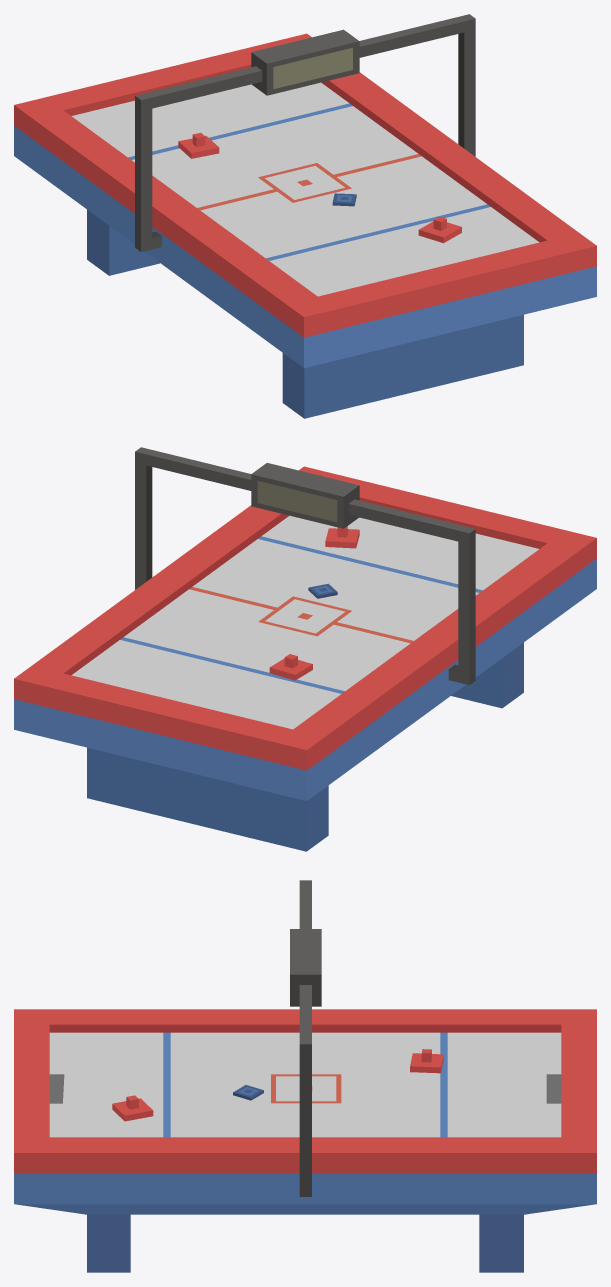
File: AirHockey.glb
3 renders of one model, top to bottom at view 1: azimuth 30°, elevation 25°; view 2: azimuth 150°, elevation 25°; view 3: azimuth 270°, elevation 25°, orthographic.
Parts seen in each view (by area): view 1: SI_Prop_Arcade_AirHockey, SI_Prop_HockeyPaddle_02, SI_Prop_HockeyPaddle_01; view 2: SI_Prop_Arcade_AirHockey, SI_Prop_HockeyPaddle_01, SI_Prop_HockeyPaddle_02; view 3: SI_Prop_Arcade_AirHockey, SI_Prop_HockeyPaddle_02, SI_Prop_HockeyPaddle_01.
Boxes of the visible parts, x1,y1,x2,y2 form: SI_Prop_Arcade_AirHockey: [14, 14, 596, 418]; SI_Prop_HockeyPaddle_02: [418, 216, 461, 243]; SI_Prop_HockeyPaddle_01: [178, 133, 219, 158]; SI_Prop_Arcade_AirHockey: [14, 447, 596, 851]; SI_Prop_HockeyPaddle_01: [269, 654, 312, 680]; SI_Prop_HockeyPaddle_02: [325, 526, 359, 548]; SI_Prop_Arcade_AirHockey: [14, 880, 596, 1272]; SI_Prop_HockeyPaddle_02: [112, 1095, 153, 1121]; SI_Prop_HockeyPaddle_01: [410, 1049, 443, 1073].
Bounding box in the file's own units: 0.0337 × 0.0256 × 0.0506.
Materials: 1 (1 with a texture image).
